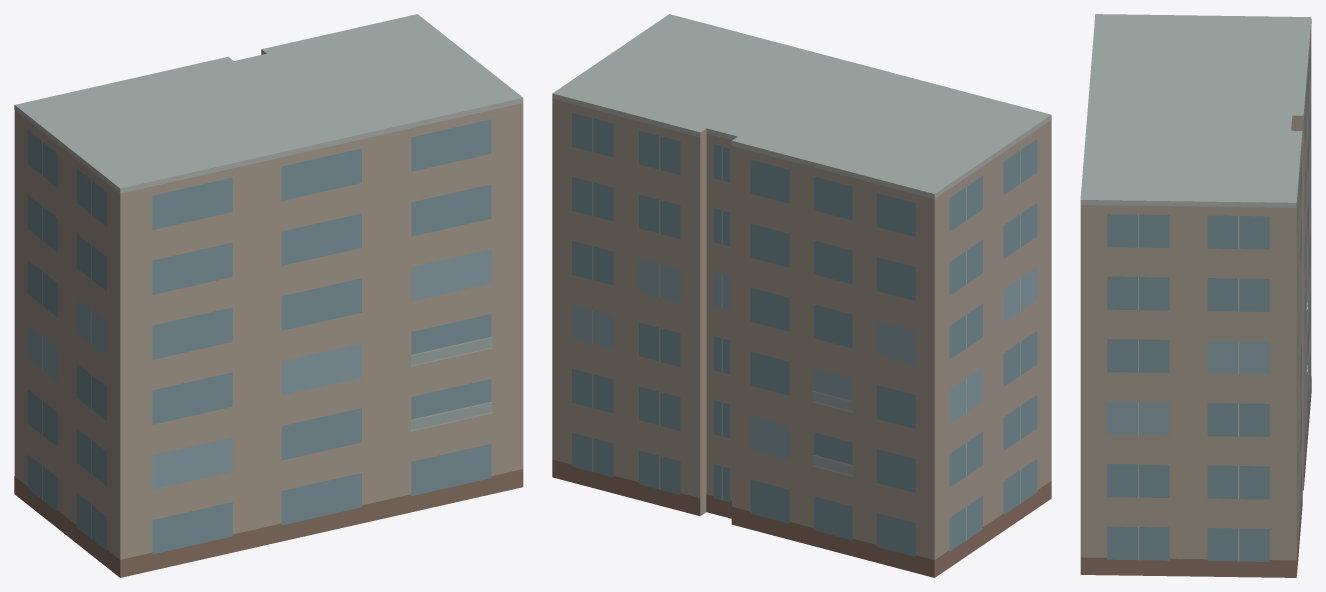
The model's file is survey-upis-32918229.glb.
3 views of the same model, side by side, from view 1: azimuth 30°, elevation 25°; view 2: azimuth 150°, elevation 25°; view 3: azimuth 270°, elevation 25° (orthographic). The views are drawn at different scales.
Parts seen in each view (by area): view 1: survey-upis-32918229.tmp; view 2: survey-upis-32918229.tmp; view 3: survey-upis-32918229.tmp.
Part boxes in pixels (left/top/right/bottom): survey-upis-32918229.tmp: left=14, top=14, right=523, bottom=577; survey-upis-32918229.tmp: left=552, top=14, right=1051, bottom=577; survey-upis-32918229.tmp: left=1080, top=14, right=1311, bottom=577.
Size of the model in its own units: 19.78 by 18.3 by 10.23.
